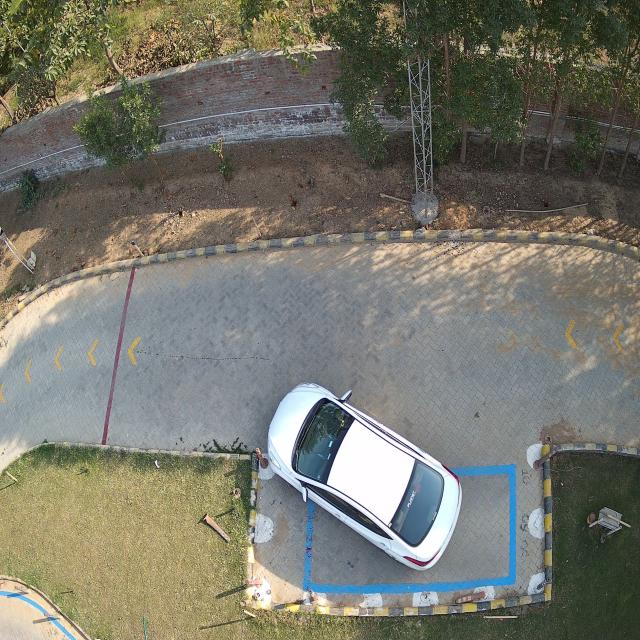car: (267, 385, 463, 573)
